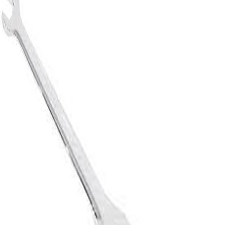Wrench: (2, 3, 129, 225)
